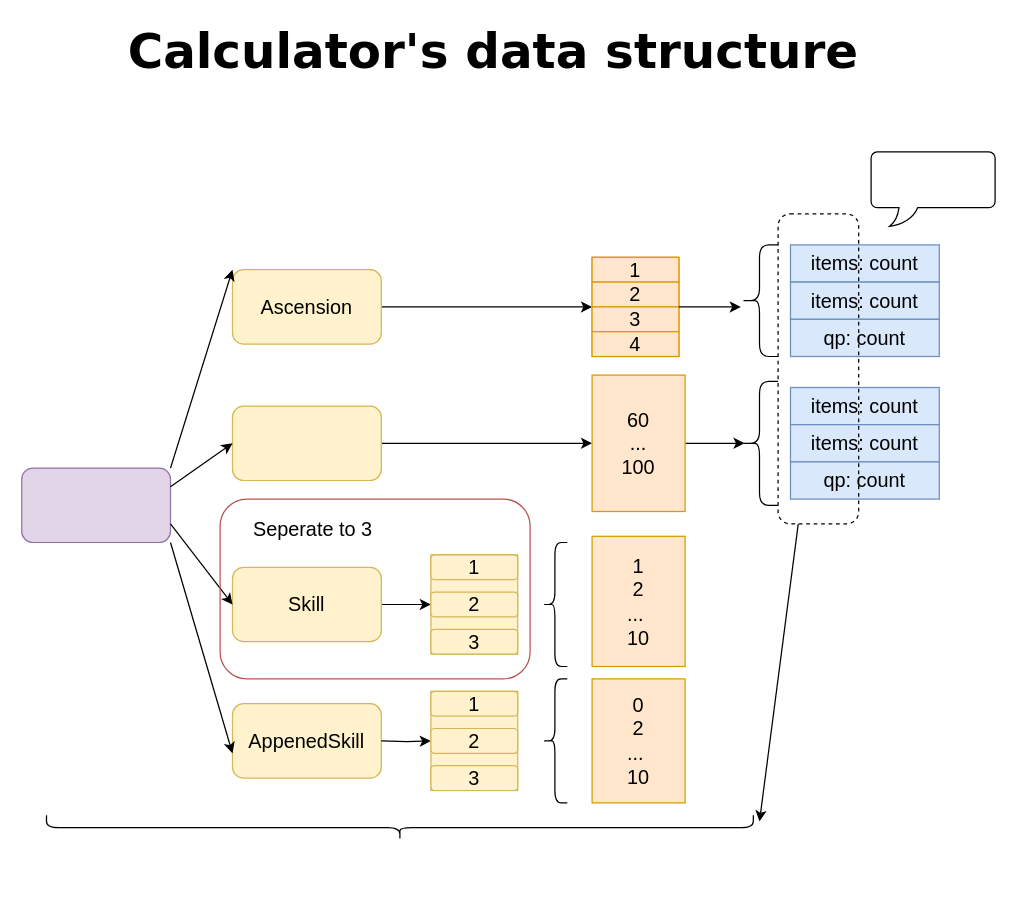
Image size: 1017x923. Some labels were removed from this diagram. The shapes that lost their labels are listed below. From the top down, each one's centre as x and y in pixels, then its label:
the point at 932,188: Cell
the point at 306,442: FinalLevel
the point at 95,504: Servant
the point at 399,827: Cell Indexes
